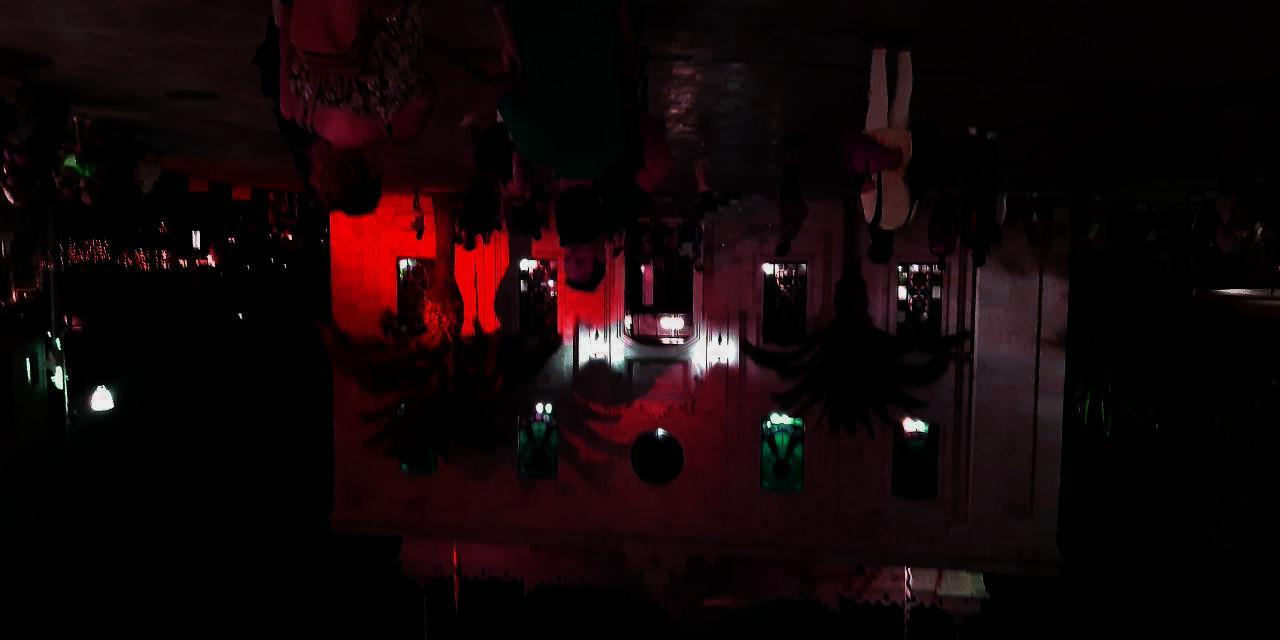Agios Titos: (222, 15, 957, 445)
